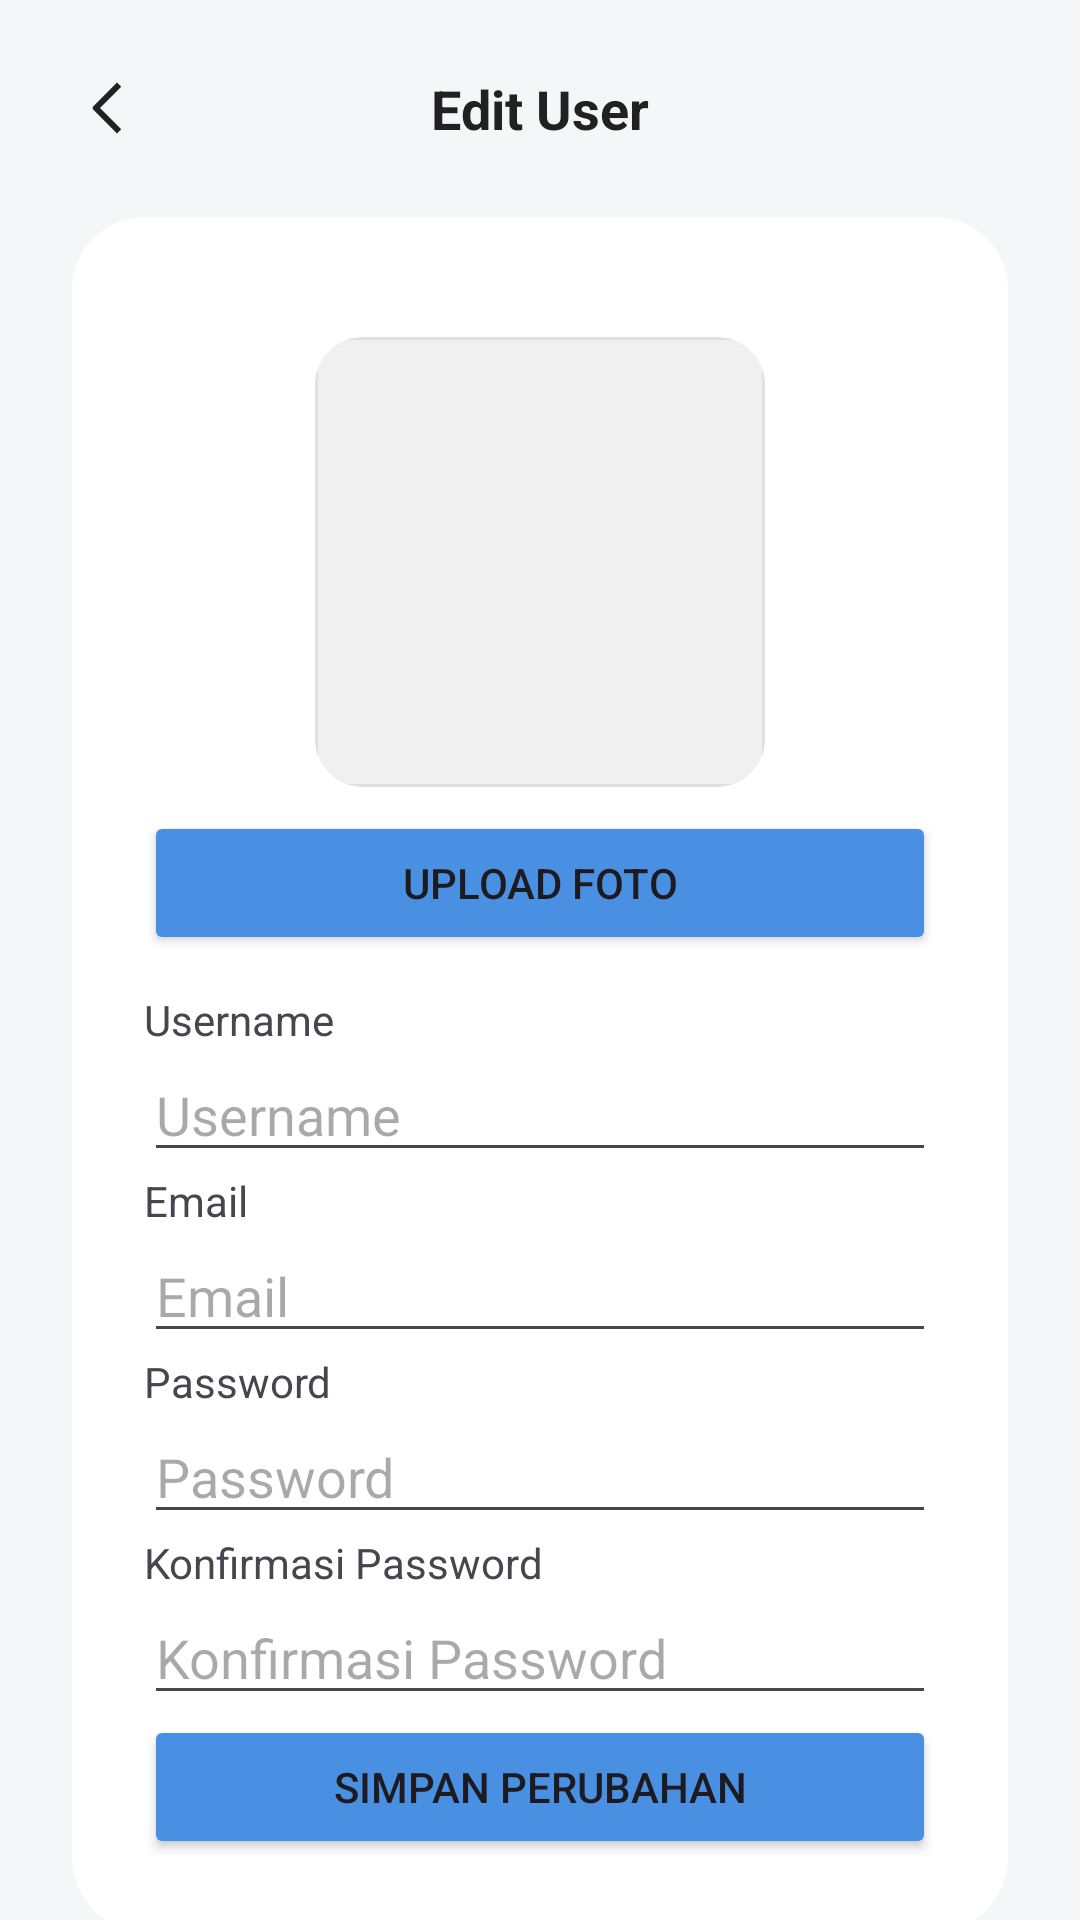

Named icons in this screenshot (1080x1920) and their centers, (x=x, y=y):
back: (x=106, y=108)
